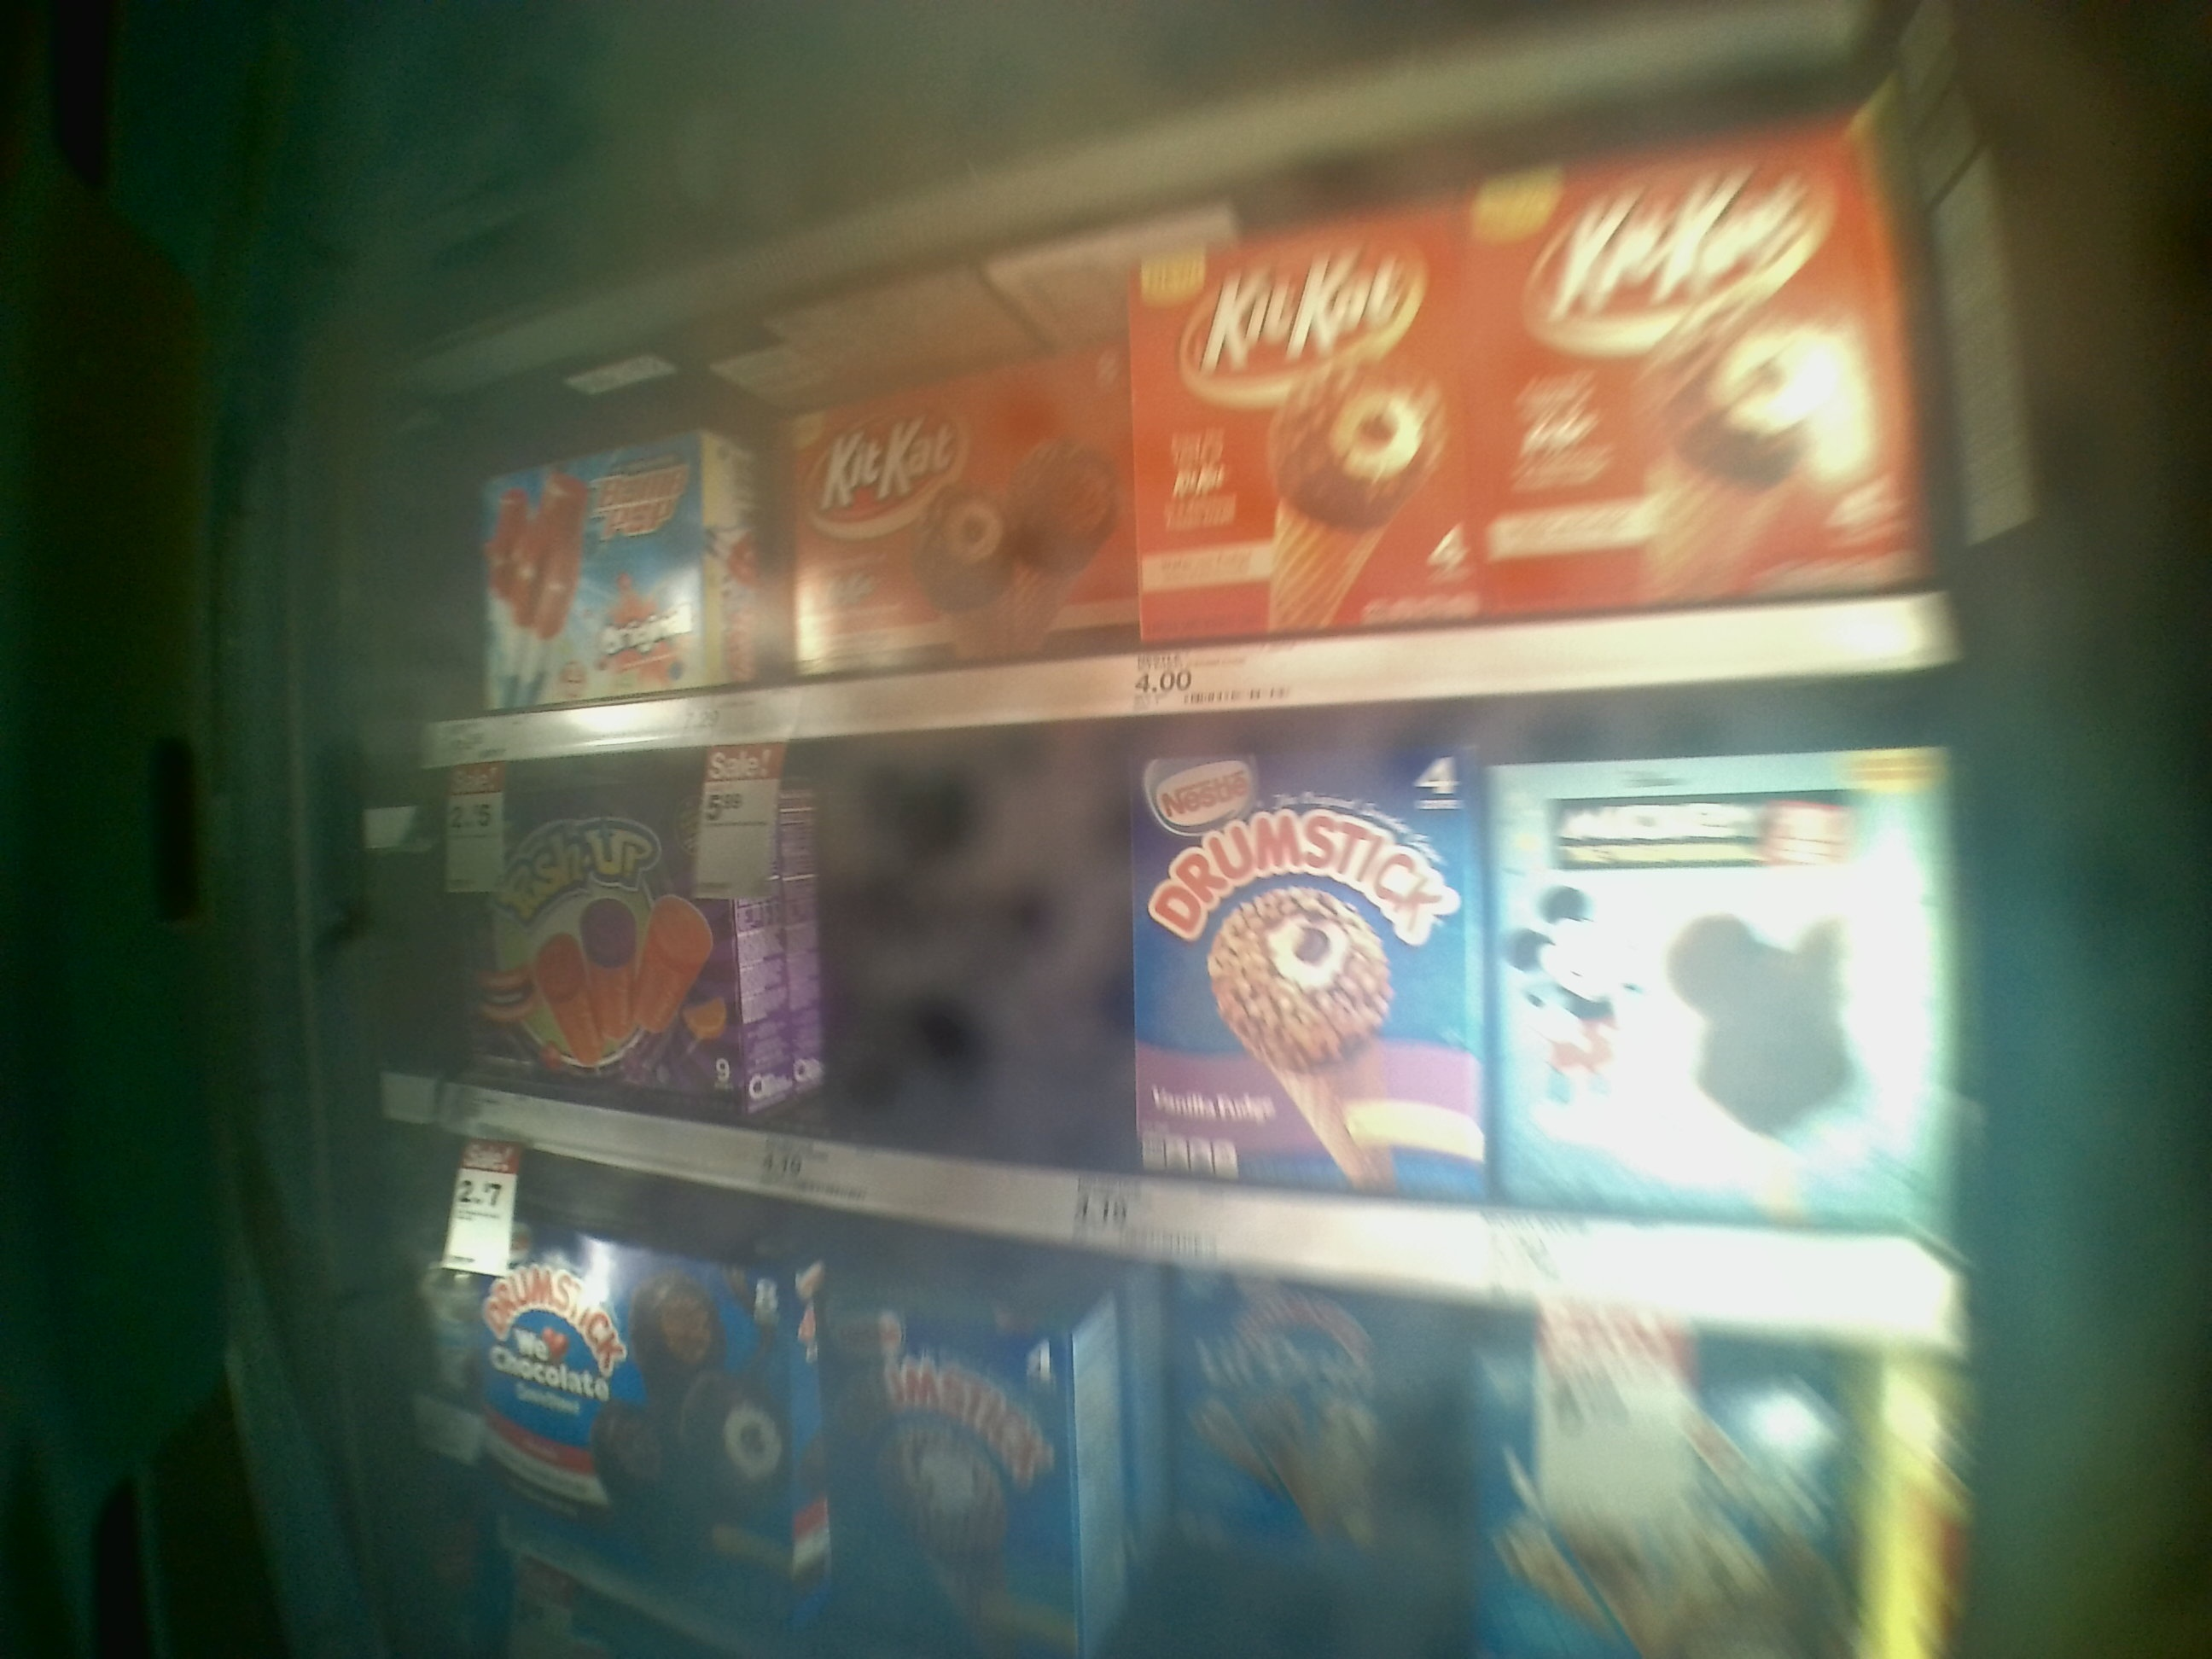shelf: (404, 643, 1970, 1337)
